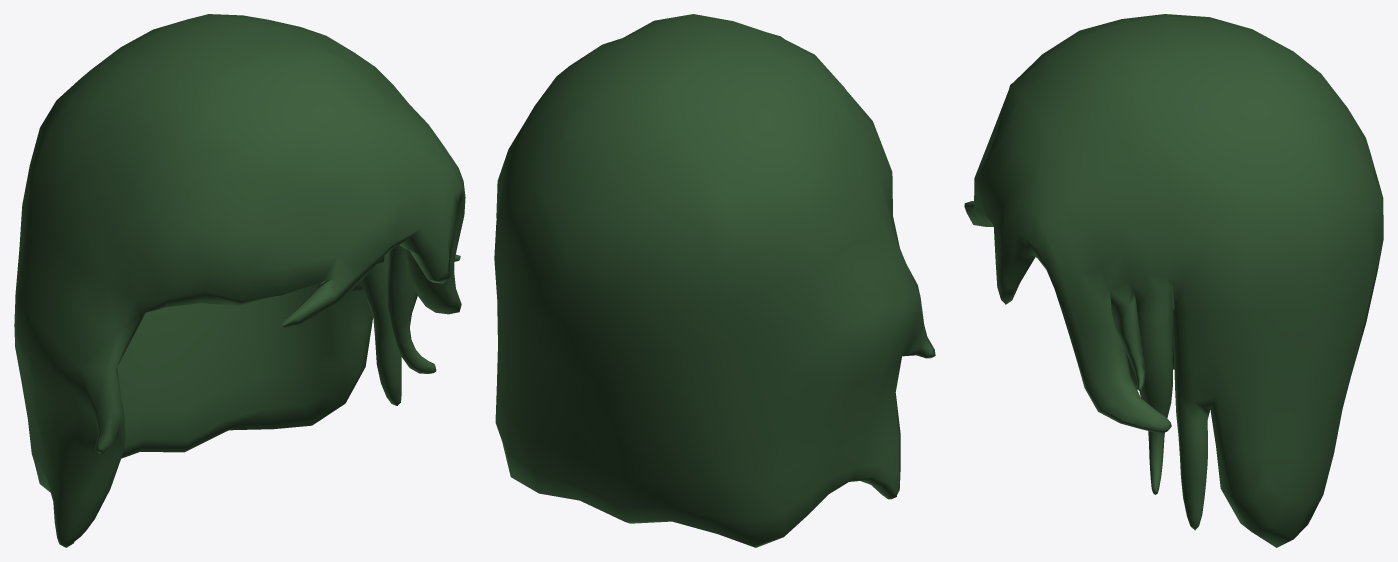
The picture shows the model from 3 angles, left to right: view 1: azimuth 30°, elevation 25°; view 2: azimuth 150°, elevation 25°; view 3: azimuth 270°, elevation 25°; orthographic projection. The views are drawn at different scales.
Visible parts, largest first — view 1: pCube2; view 2: pCube2; view 3: pCube2.
Part boxes in pixels (x1,y1,x2,y2): pCube2: (14,14,465,547); pCube2: (494,14,935,547); pCube2: (964,14,1383,547).
Size of the model in its own units: 1.06 by 1.14 by 0.9488.
